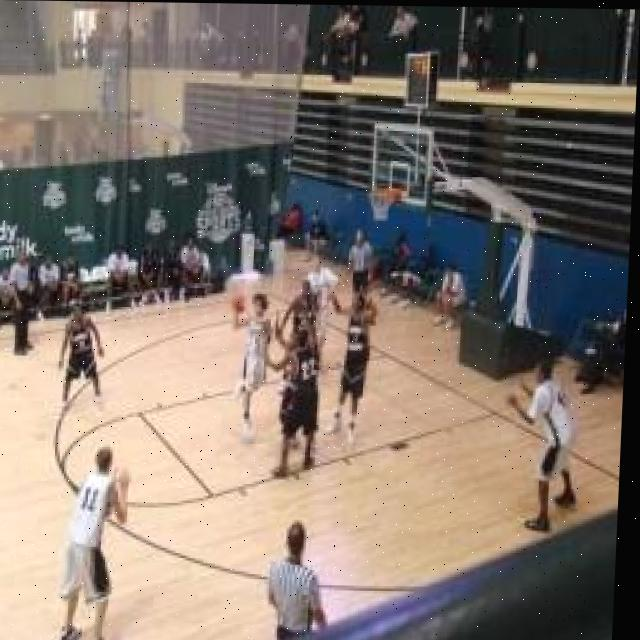basketball: (231, 289, 247, 317)
hoop: (367, 187, 401, 223)
